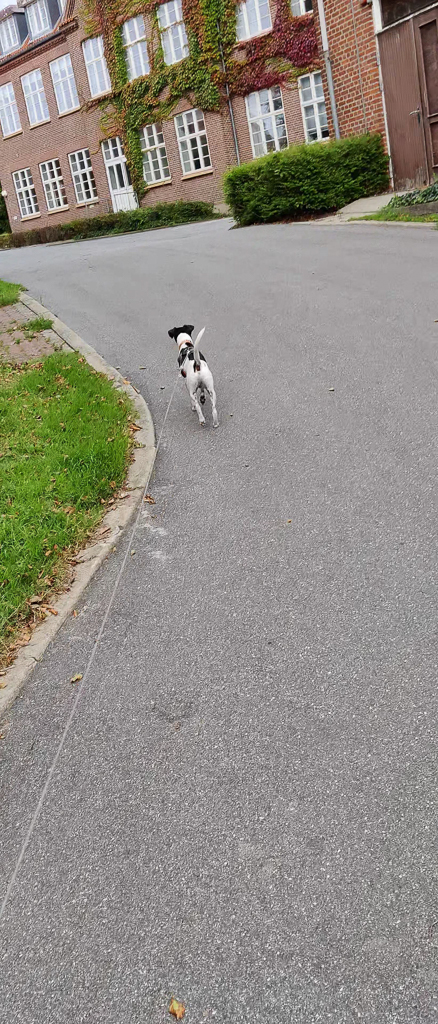Dog: (162, 317, 230, 433)
